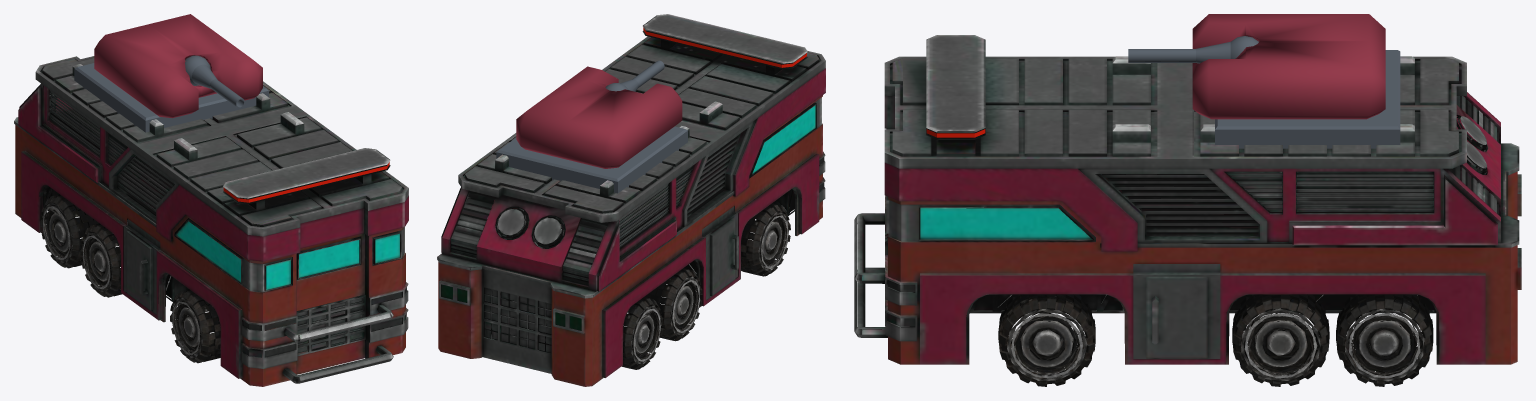
Rendered from firetruck.glb.
3 views of the same model, side by side, from view 1: azimuth 30°, elevation 25°; view 2: azimuth 150°, elevation 25°; view 3: azimuth 270°, elevation 25° (orthographic). The views are drawn at different scales.
Parts seen in each view (by area): view 1: body, cannon, cannon_base, wheel_fr, wheel_rear, wheel_mid, lightbar; view 2: body, cannon, cannon_base, wheel_fr, wheel_mid, wheel_rear, lightbar; view 3: body, cannon, wheel_mid, wheel_fl, wheel_rear, cannon_base.
Part boxes in pixels (x1=…): body: x1=14, y1=56, x2=408, y2=386; cannon: x1=94, y1=14, x2=262, y2=118; cannon_base: x1=74, y1=63, x2=268, y2=132; wheel_fr: x1=170, y1=289, x2=220, y2=363; wheel_rear: x1=40, y1=194, x2=98, y2=268; wheel_mid: x1=80, y1=223, x2=122, y2=297; lightbar: x1=223, y1=162, x2=389, y2=202; body: x1=437, y1=14, x2=825, y2=386; cannon: x1=516, y1=60, x2=682, y2=168; cannon_base: x1=496, y1=126, x2=687, y2=193; wheel_fr: x1=741, y1=203, x2=790, y2=276; wheel_mid: x1=644, y1=268, x2=702, y2=341; wheel_rear: x1=622, y1=297, x2=663, y2=369; lightbar: x1=643, y1=27, x2=806, y2=67; body: x1=854, y1=35, x2=1521, y2=364; cannon: x1=1128, y1=14, x2=1385, y2=119; wheel_mid: x1=1232, y1=294, x2=1329, y2=386; wheel_fl: x1=998, y1=294, x2=1095, y2=386; wheel_rear: x1=1336, y1=294, x2=1433, y2=386; cannon_base: x1=1215, y1=50, x2=1400, y2=148.
Size of the model in its own units: 7.24 by 8.86 by 17.99.
4 materials, 1 textured.
